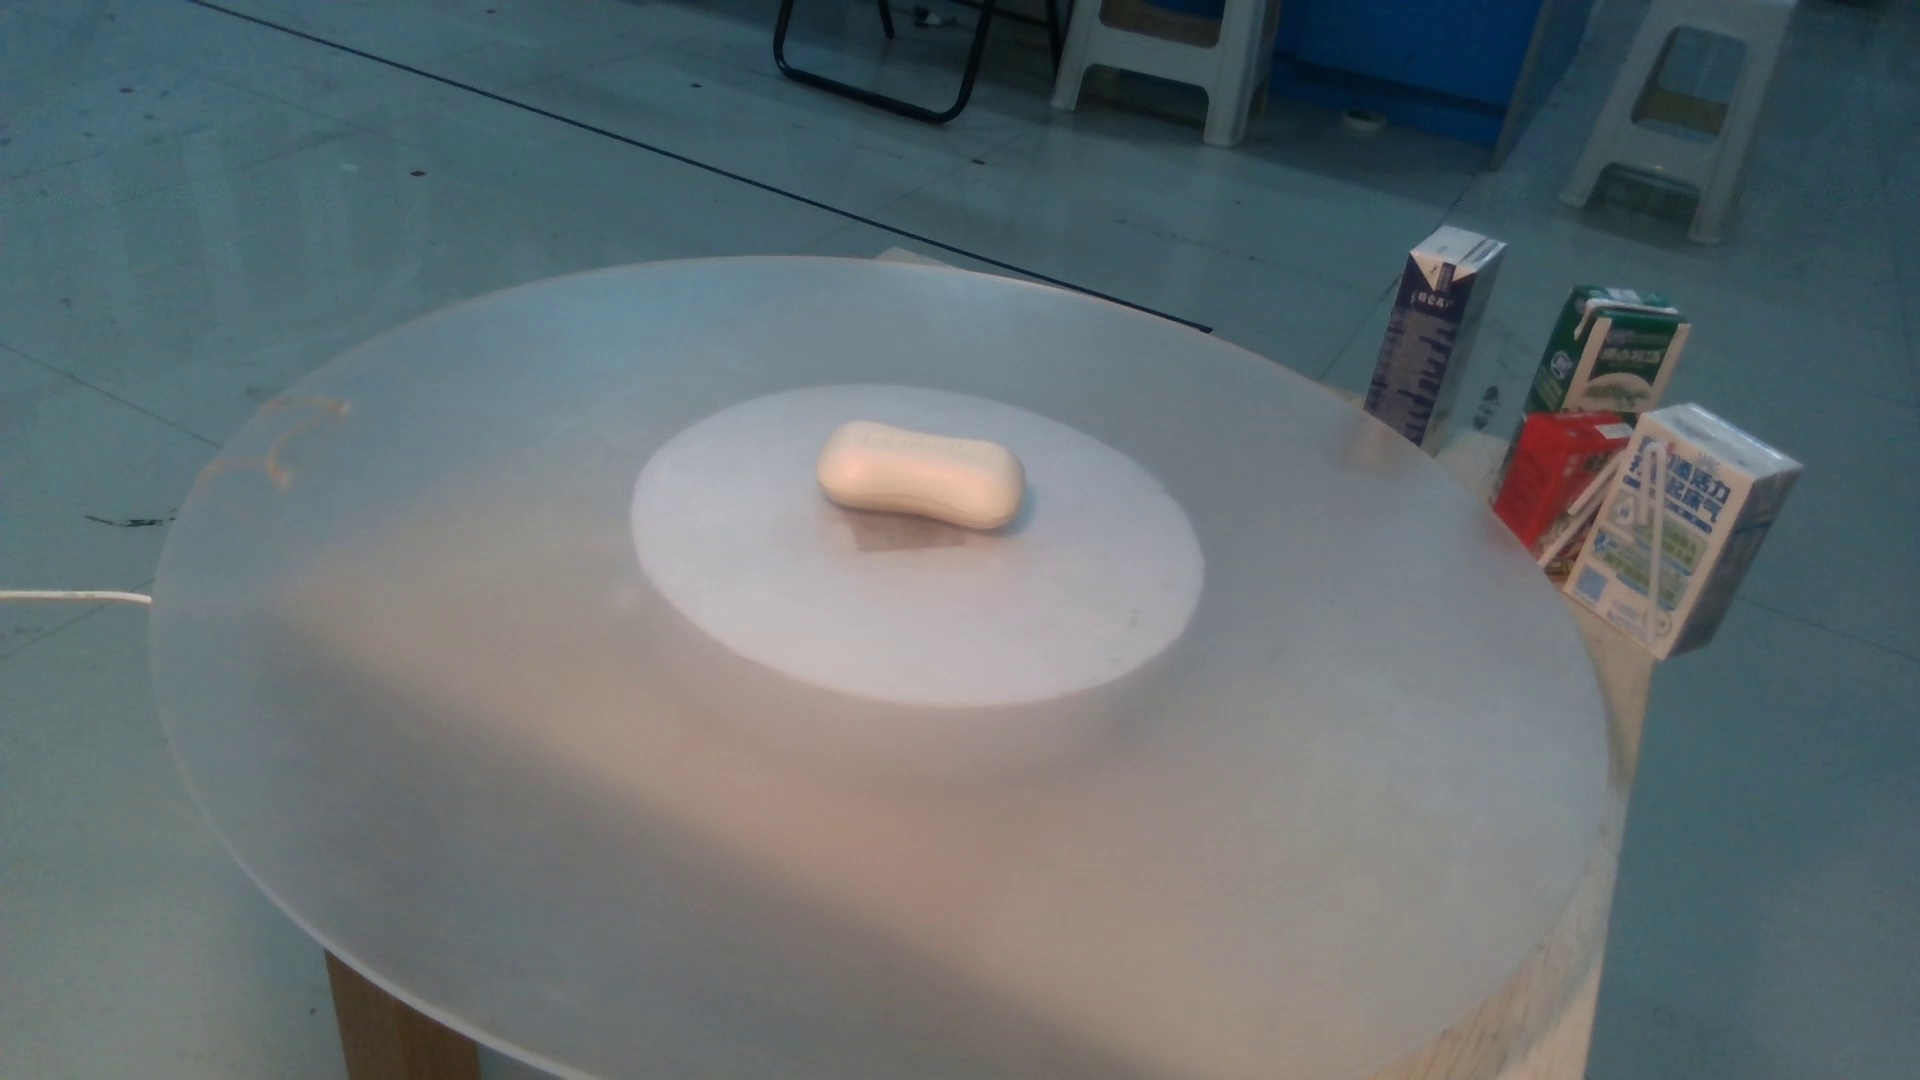CA003_1: (785, 375, 1079, 563)
